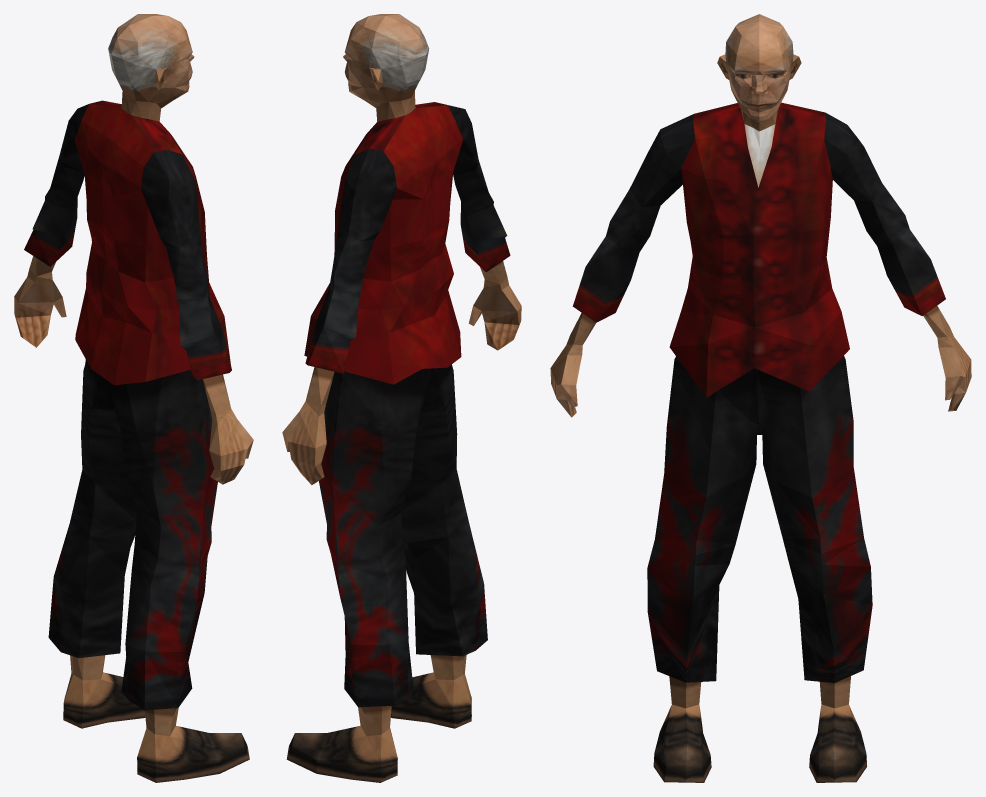
File: omokung.obj
3 renders of one model, left to right at view 1: azimuth 30°, elevation 25°; view 2: azimuth 150°, elevation 25°; view 3: azimuth 270°, elevation 25°, orthographic.
Visible parts, largest first — view 1: _Pelvis; view 2: _Pelvis; view 3: _Pelvis.
Part boxes in pixels (box(x1,y1,x2,y2)): _Pelvis: box(14, 14, 253, 782); _Pelvis: box(282, 14, 521, 782); _Pelvis: box(550, 14, 971, 782).
Bounding box in the file's own units: 0.3097 × 1.77 × 0.9154.
1 material, 1 textured.
